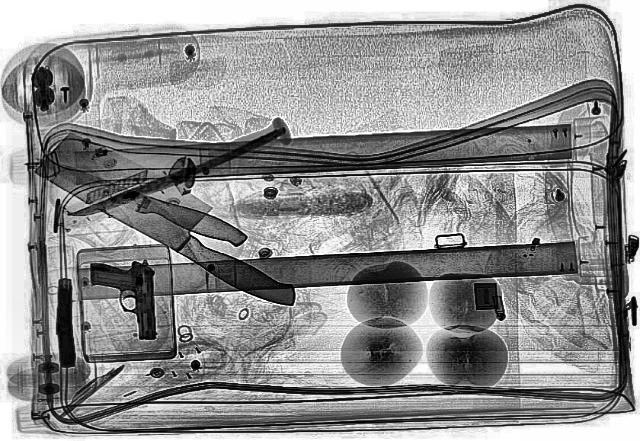Gun: (88, 260, 158, 340), (50, 278, 80, 368)
Knife: (18, 126, 336, 312), (26, 146, 252, 252), (65, 127, 292, 221)
